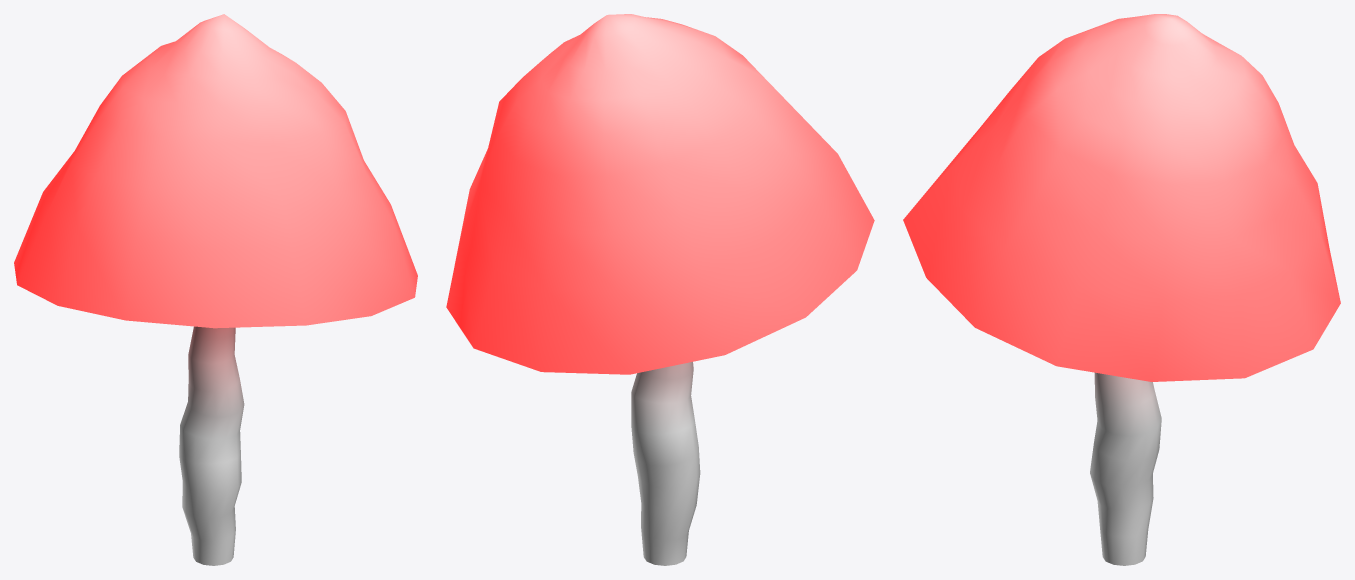
Rendered from mushroom_5.glb.
The picture shows the model from 3 angles, left to right: view 1: azimuth 30°, elevation 25°; view 2: azimuth 150°, elevation 25°; view 3: azimuth 270°, elevation 25°; orthographic projection. The views are drawn at different scales.
Visible parts, largest first — view 1: geo1; view 2: geo1; view 3: geo1.
Boxes of the visible parts, x1,y1,x2,y2 form: geo1: (14, 14, 417, 565); geo1: (446, 14, 874, 565); geo1: (903, 14, 1340, 565).
Bounding box in the file's own units: 0.2408 × 0.3501 × 0.2505.
